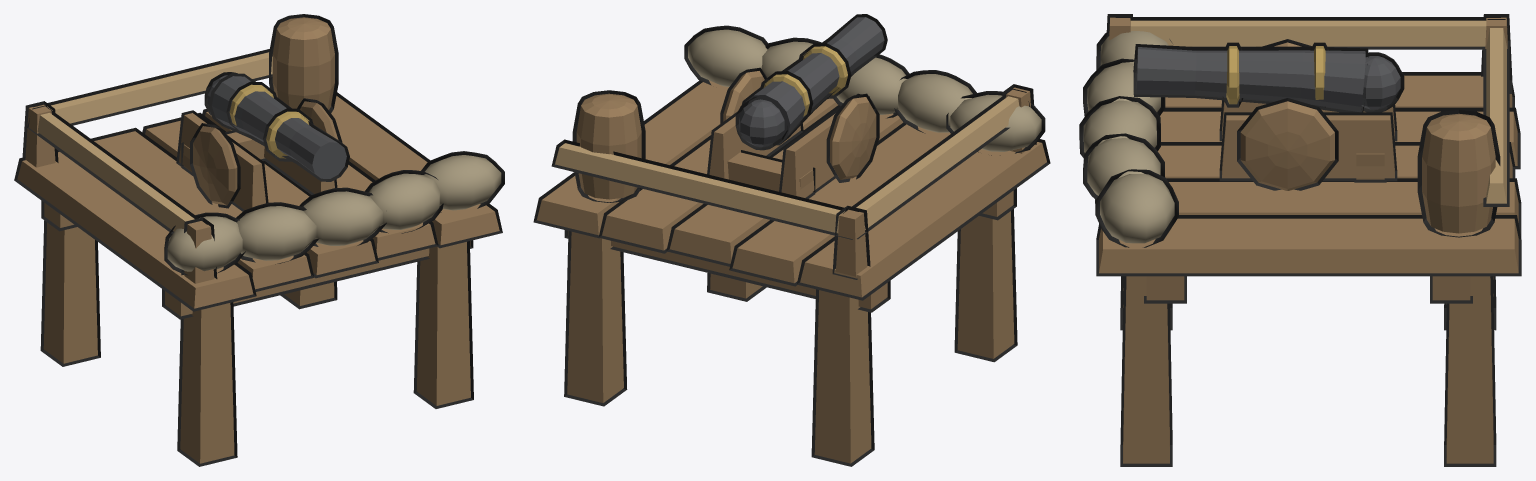
The model's file is td_cannon.fbx.
The picture shows the model from 3 angles, left to right: view 1: azimuth 30°, elevation 25°; view 2: azimuth 150°, elevation 25°; view 3: azimuth 270°, elevation 25°; orthographic projection. The views are drawn at different scales.
Visible parts, largest first — view 1: Prop_CannonOutpost, Prop_Cannon; view 2: Prop_CannonOutpost, Prop_Cannon; view 3: Prop_CannonOutpost, Prop_Cannon.
Part boxes in pixels (x1,y1,x2,y2): Prop_CannonOutpost: (14, 14, 504, 466); Prop_Cannon: (176, 72, 349, 211); Prop_CannonOutpost: (533, 25, 1050, 466); Prop_Cannon: (707, 14, 887, 198); Prop_CannonOutpost: (1079, 14, 1521, 466); Prop_Cannon: (1133, 39, 1404, 190).
Size of the model in its own units: 122 by 100 by 117.
